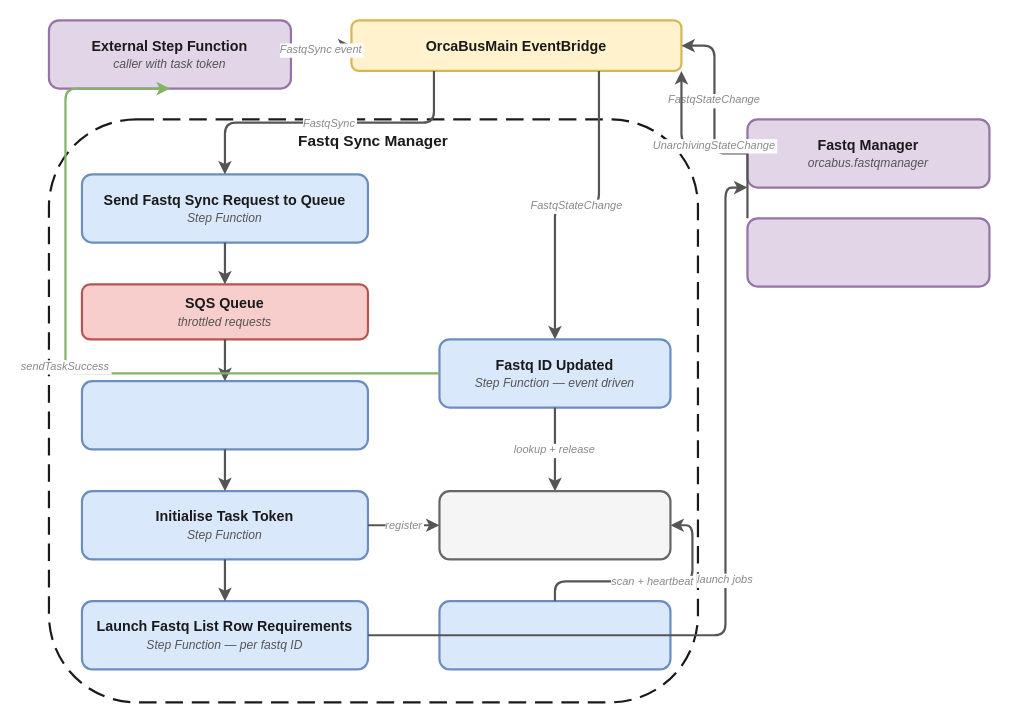
Image size: 1009x722. Some labels were removed from this diagram. The centre of each missing label's shape, as x and y in pixels:
"DynamoDB task token + fastq ID store" belongs at pixel 554 525.
"Fastq Unarchiving orcabus.fastqunarchiving" belongs at pixel 868 252.
"Handle Messages Lambda durable execution + callback" belongs at pixel 224 415.
"Heartbeat Monitor scheduled every 15 min" belongs at pixel 554 635.
